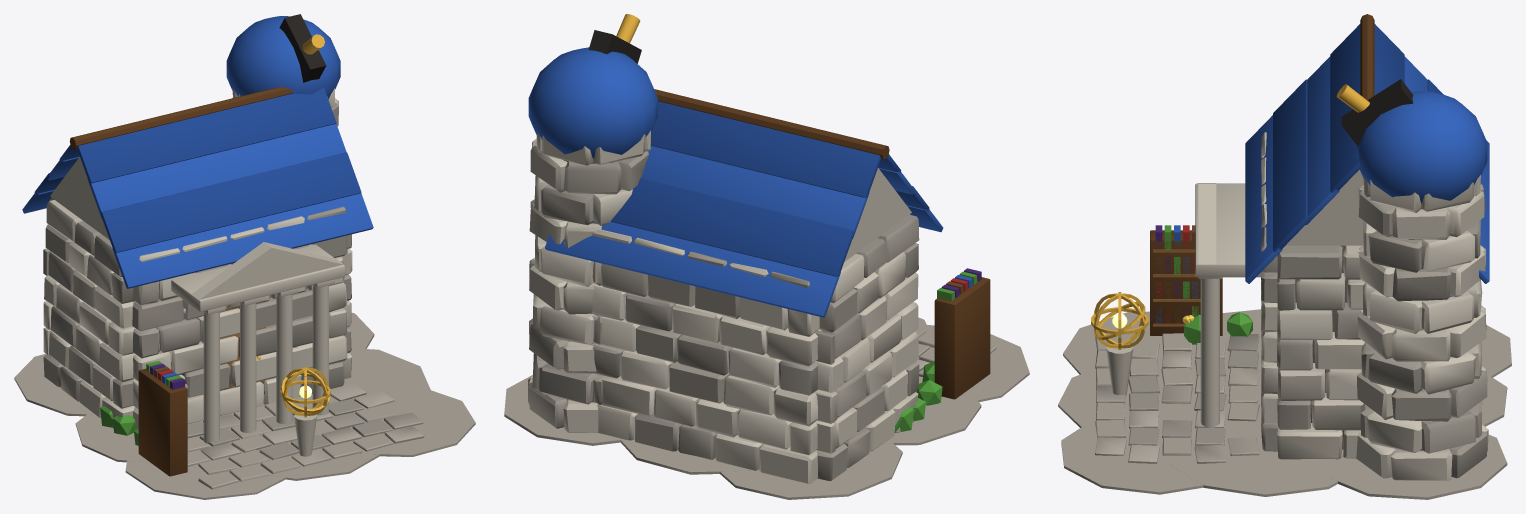
The model's file is akademia_poz16.glb.
The picture shows the model from 3 angles, left to right: view 1: azimuth 30°, elevation 25°; view 2: azimuth 150°, elevation 25°; view 3: azimuth 270°, elevation 25°; orthographic projection. The views are drawn at different scales.
Visible parts, largest first — view 1: akademia_poz16; view 2: akademia_poz16; view 3: akademia_poz16.
Boxes of the visible parts, x1,y1,x2,y2 form: akademia_poz16: [14, 14, 475, 499]; akademia_poz16: [504, 14, 1029, 499]; akademia_poz16: [1058, 14, 1511, 499].
Size of the model in its own units: 7.44 by 6.98 by 7.51.
